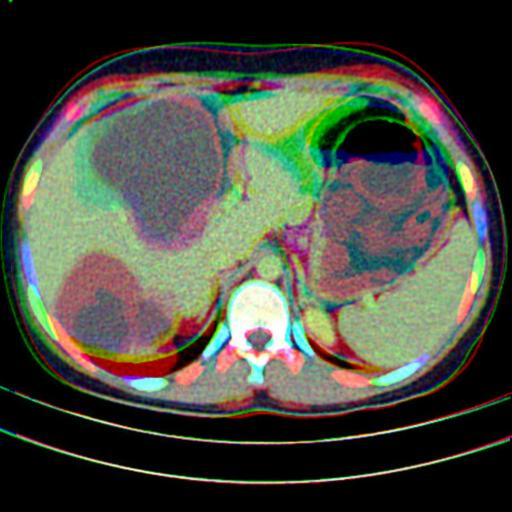Cyst: (92, 99, 223, 249), (56, 254, 171, 352)
